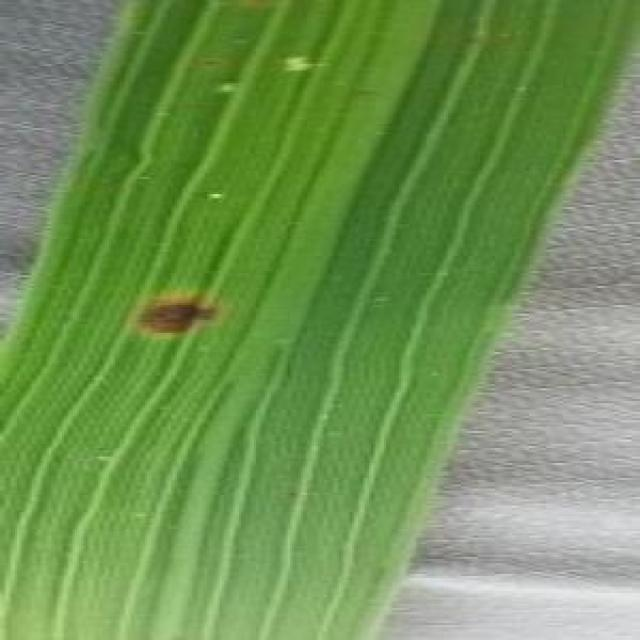brownspots: (132, 286, 211, 333)
